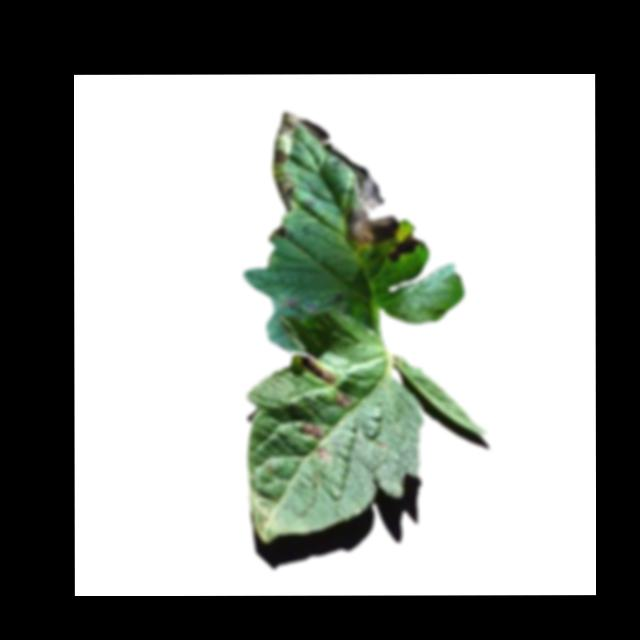Early_blight: (324, 143, 399, 247), (271, 108, 329, 211), (386, 231, 424, 264), (300, 353, 335, 384), (278, 295, 318, 315), (300, 422, 324, 439), (335, 391, 353, 409), (317, 447, 332, 460)
